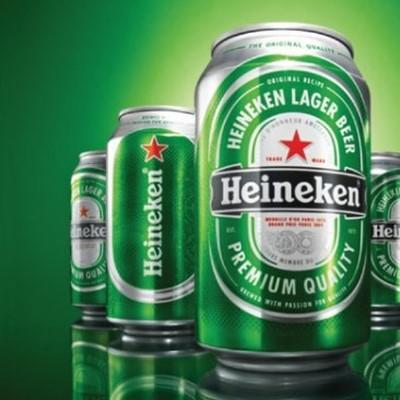beer: (192, 24, 377, 372)
